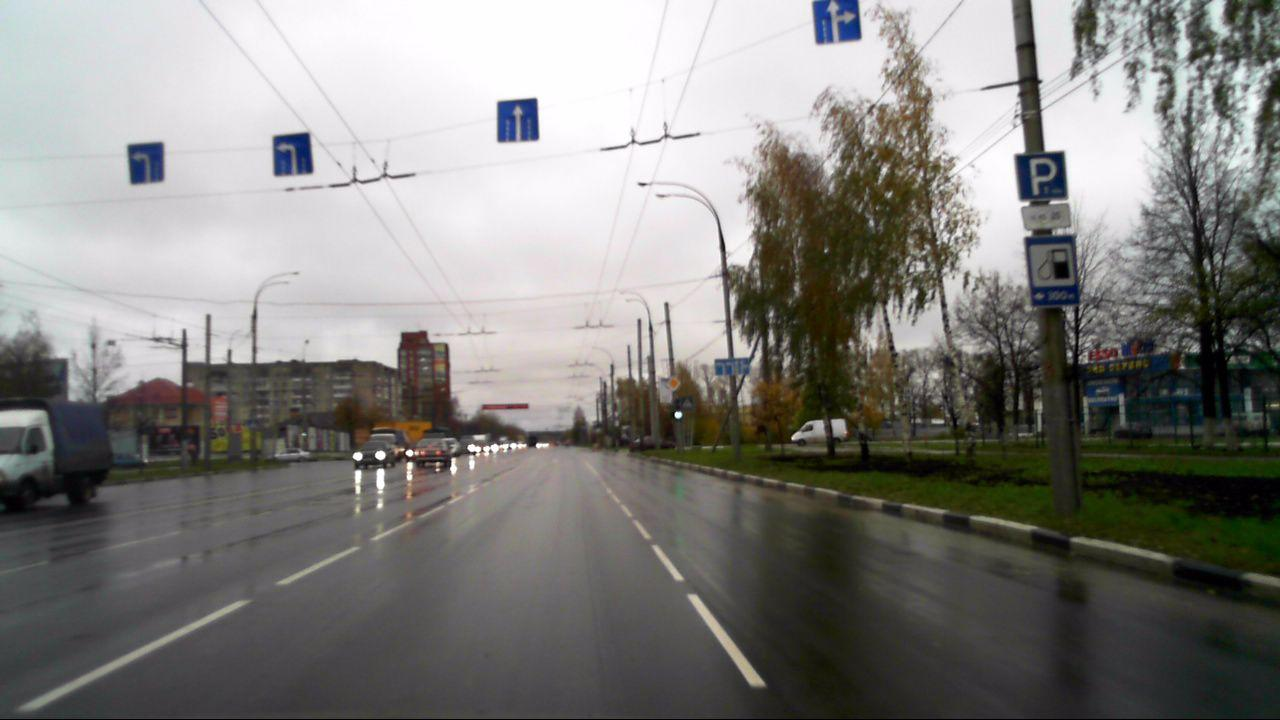2_1: (666, 376, 680, 391)
5_15_1: (715, 357, 752, 376)
5_15_2: (811, 1, 861, 45), (495, 99, 540, 143), (123, 143, 169, 186), (269, 131, 313, 175)
5_19_1: (680, 396, 693, 411)
6_4: (1014, 153, 1071, 203)
7_3: (1022, 233, 1084, 308)
8_8: (1022, 203, 1070, 229)
